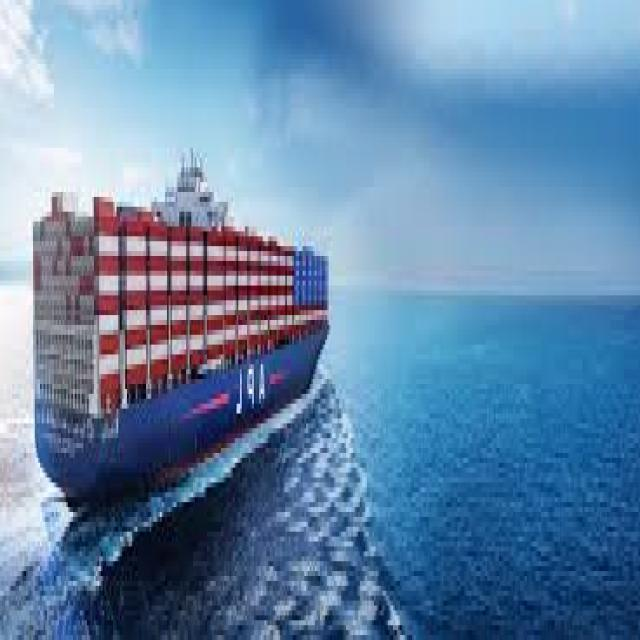cargoship: (29, 142, 336, 502)
